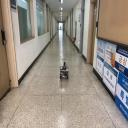cart: (59, 66, 69, 80)
